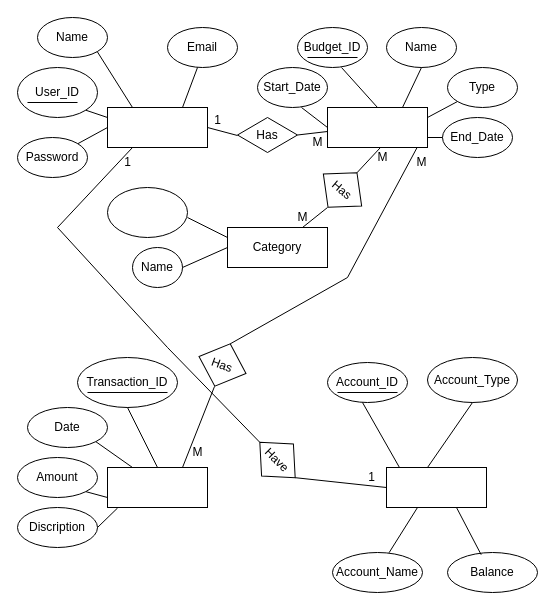
The diagram is 555 pixels wide and 610 high, and some of its shapes have lost their labels. The centre of each missing label's shape, as x and y in pixels:
Account: the point at 436,487
Budget: the point at 377,127
Category_ID: the point at 147,212
Transaction: the point at 157,487
User: the point at 157,127
